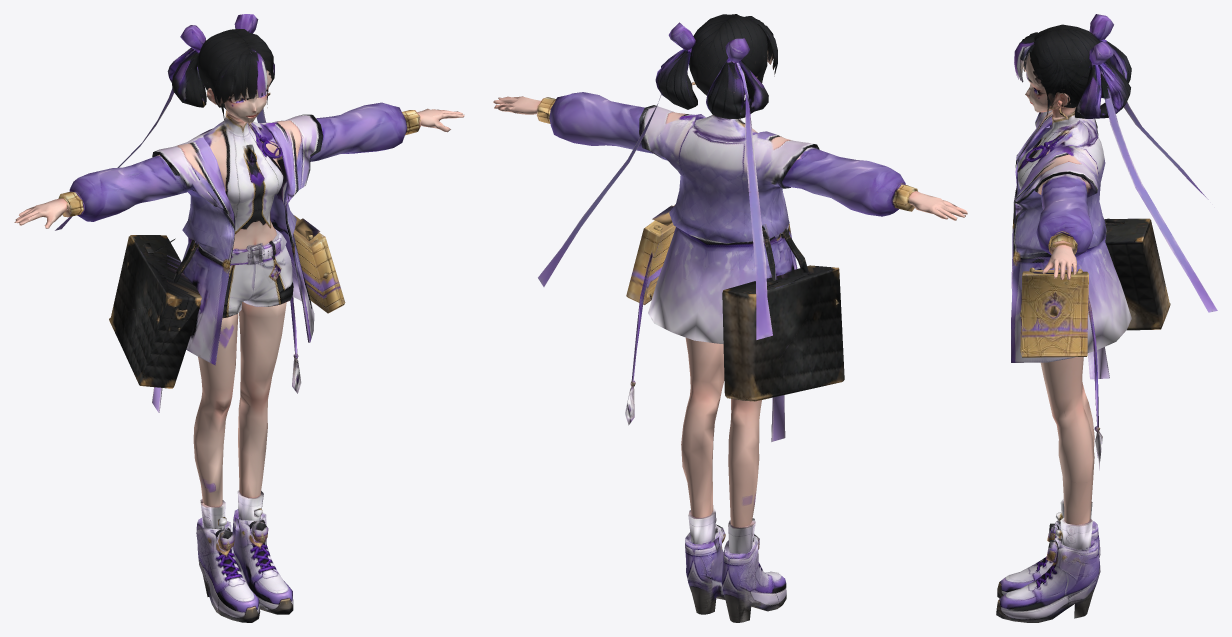
Rendered from syuen.fbx.
The picture shows the model from 3 angles, left to right: view 1: azimuth 30°, elevation 25°; view 2: azimuth 150°, elevation 25°; view 3: azimuth 270°, elevation 25°; orthographic projection. The views are drawn at different scales.
Parts seen in each view (by area): view 1: mesh_node; view 2: mesh_node; view 3: mesh_node.
Part boxes in pixels (x1,y1,x2,y2): mesh_node: (14,14,464,622); mesh_node: (493,14,967,622); mesh_node: (996,14,1217,622).
Bounding box in the file's own units: 83.59 × 100 × 34.86.
1 material, 1 textured.
